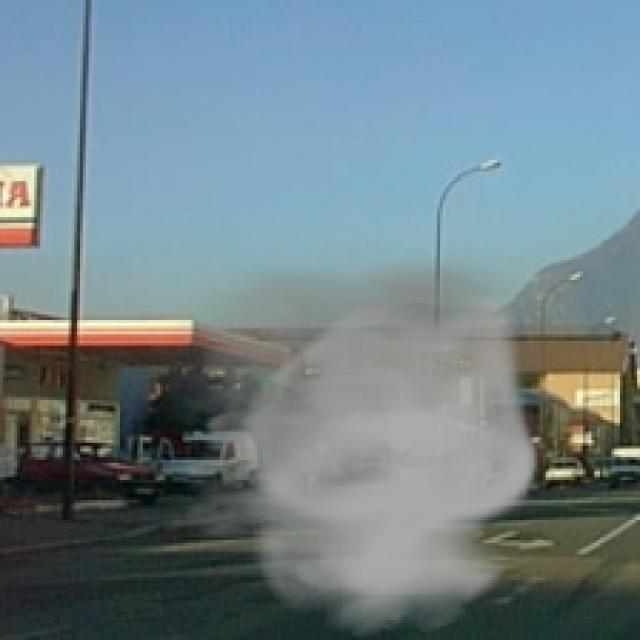smoke: (131, 243, 546, 637)
